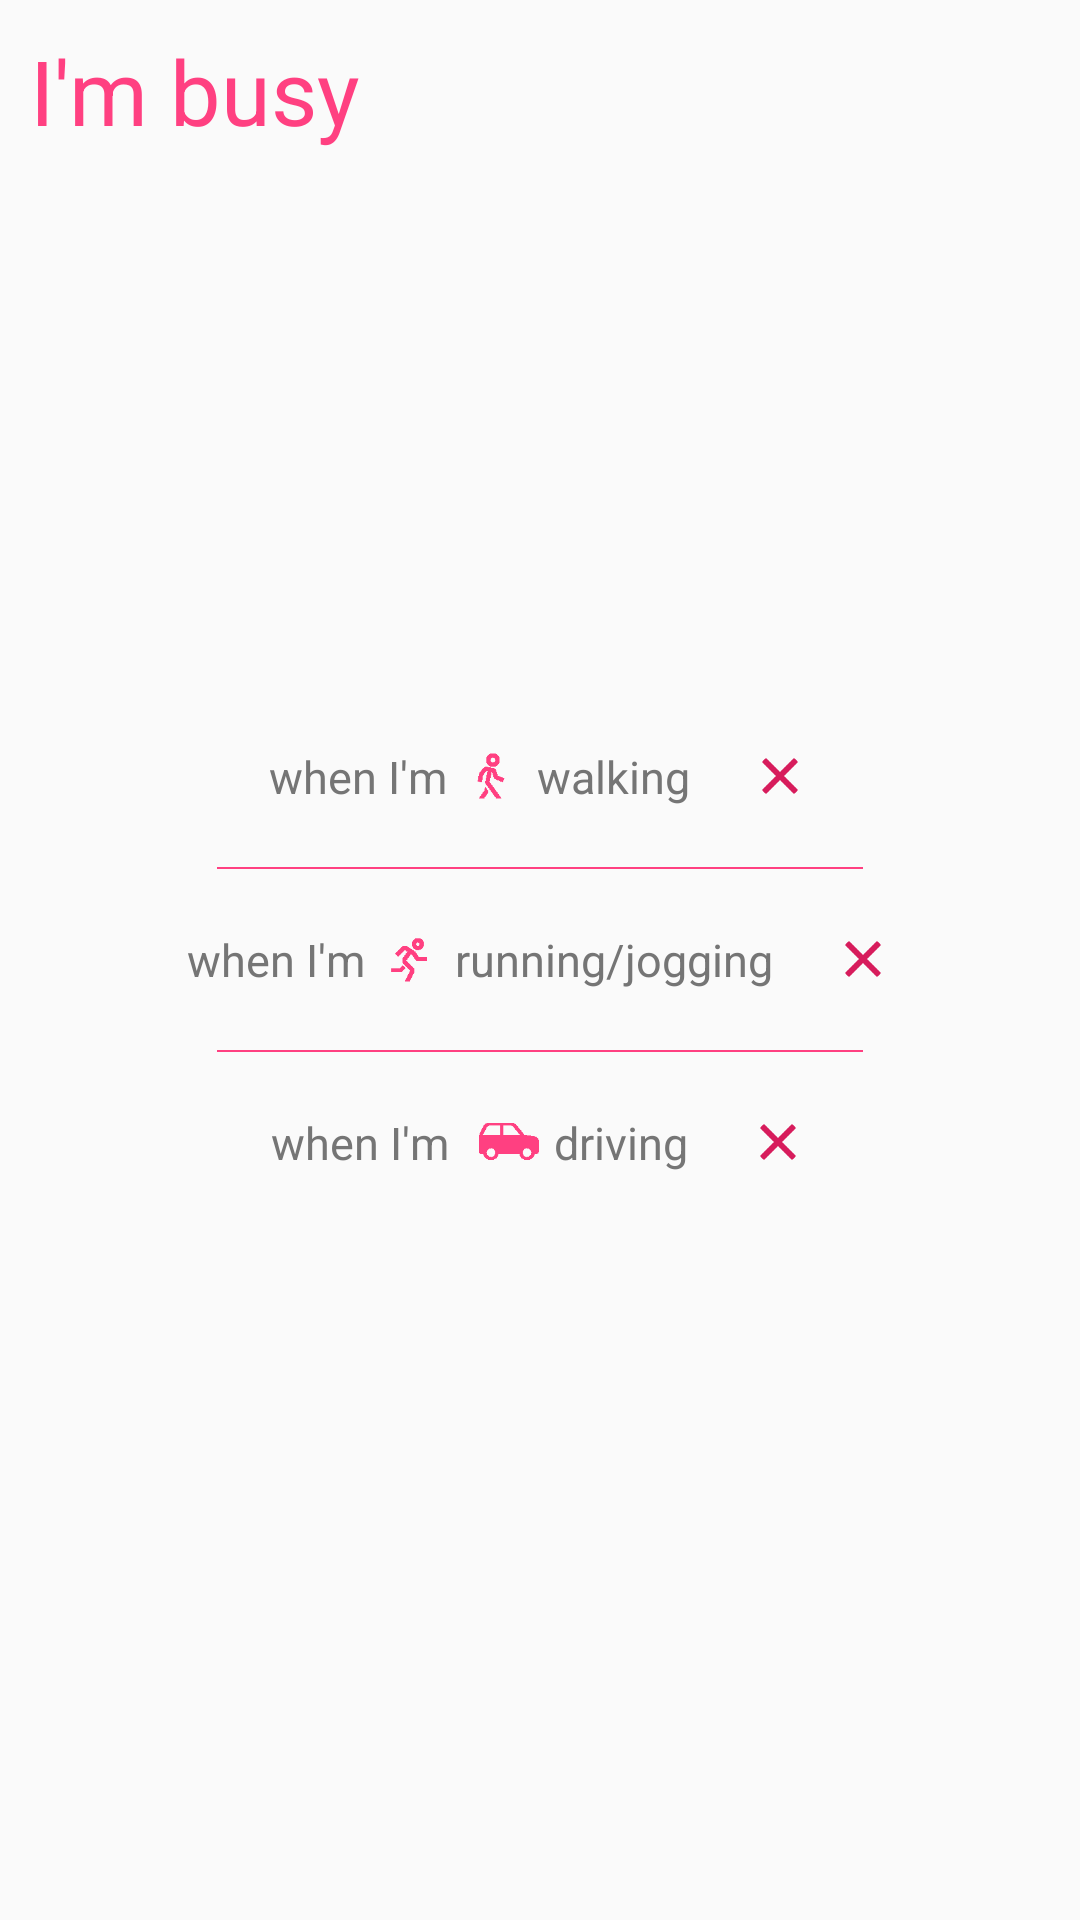

Named icons in this screenshot (1080px x 1920px) and their bounding boxes, (x1, y1, x2, y2):
car: (479, 1123, 539, 1160)
cross: (762, 758, 798, 794), (845, 941, 881, 977), (760, 1124, 796, 1160)
